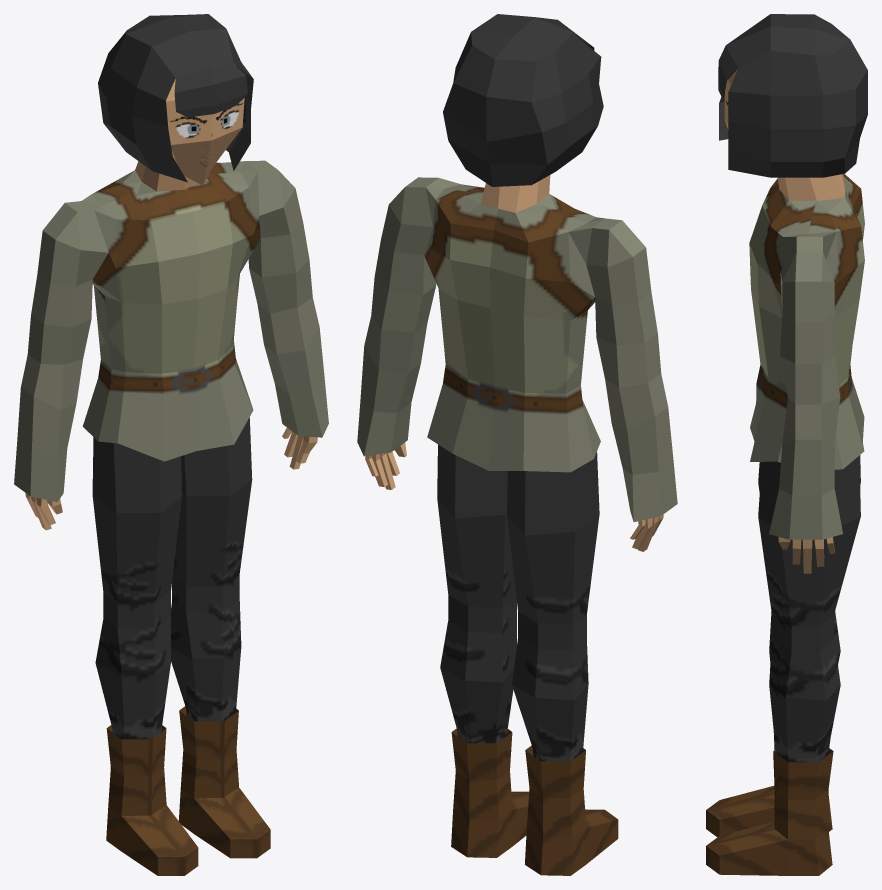
The model's file is VillagerF3.fbx.
3 renders of one model, left to right at view 1: azimuth 30°, elevation 25°; view 2: azimuth 150°, elevation 25°; view 3: azimuth 270°, elevation 25°, orthographic.
Visible parts, largest first — view 1: Cube; view 2: Cube; view 3: Cube.
Boxes of the visible parts, x1,y1,x2,y2 form: Cube: [14, 14, 328, 875]; Cube: [357, 14, 677, 875]; Cube: [706, 14, 867, 875].
Bounding box in the file's own units: 58.3 × 152 × 27.07.
Materials: 1 (1 with a texture image).
